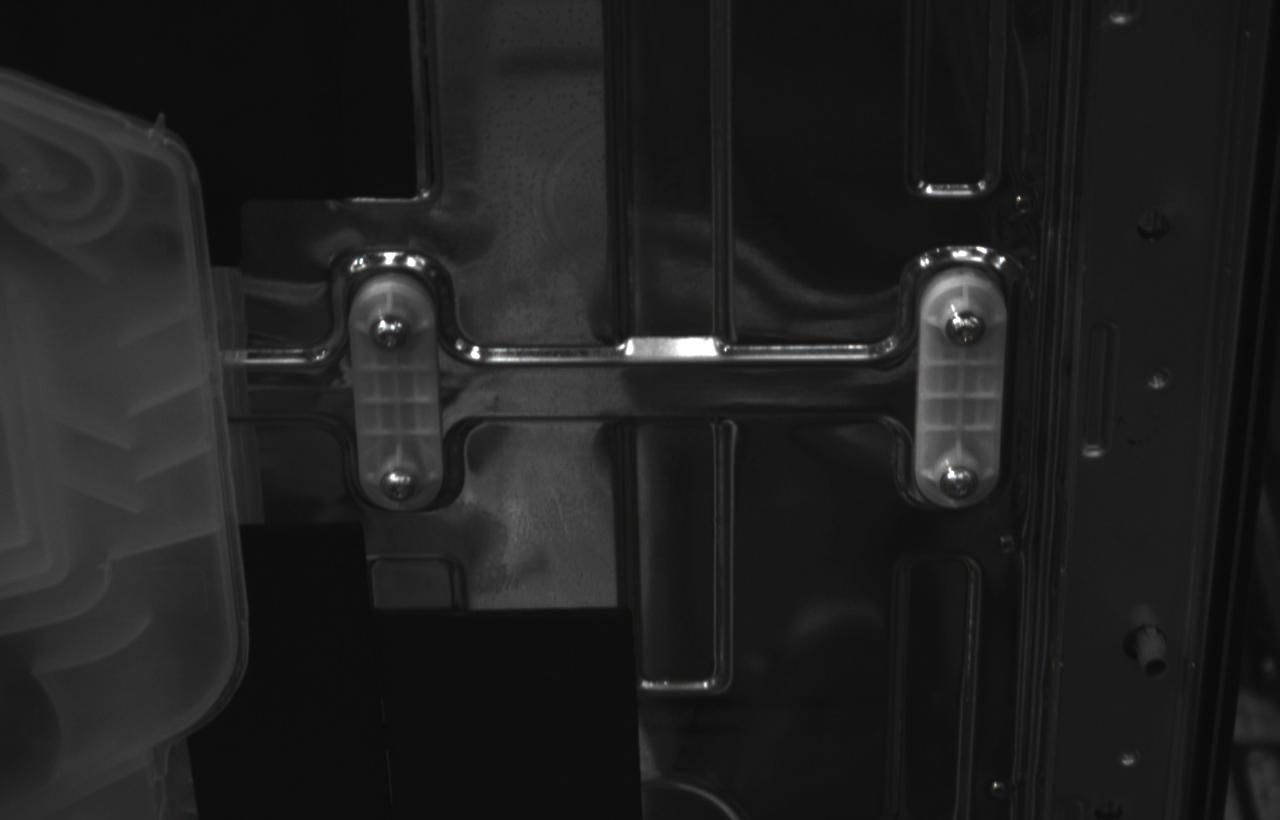vida-ok: (945, 311, 986, 348), (369, 314, 408, 351), (940, 466, 979, 501), (379, 468, 416, 503)
